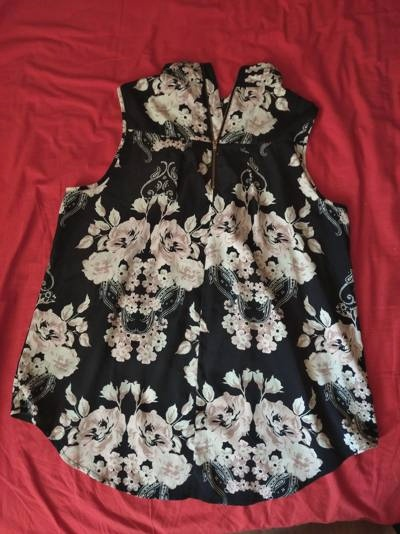Blouse: (11, 54, 384, 509)
